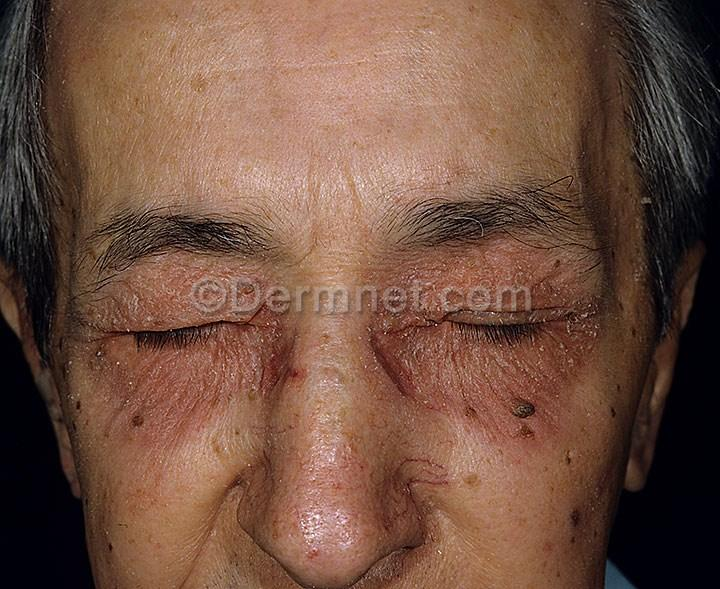Eczema: (373, 338, 510, 427), (515, 348, 621, 441), (342, 252, 441, 343), (104, 360, 192, 428), (66, 255, 148, 320), (258, 346, 336, 396), (544, 261, 612, 316), (200, 341, 262, 401), (446, 227, 509, 282), (141, 264, 197, 321), (209, 235, 264, 279)
